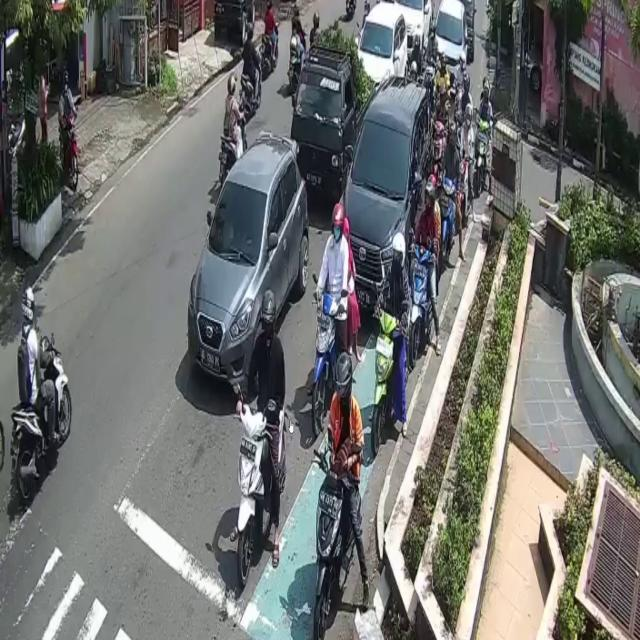bus: (234, 390, 290, 583), (11, 335, 72, 505), (313, 458, 360, 640), (371, 306, 399, 452), (314, 292, 343, 430), (410, 243, 433, 361), (218, 112, 248, 190), (60, 108, 80, 188), (240, 52, 262, 120), (476, 118, 494, 186), (442, 174, 457, 252)
motorcycle: (188, 131, 308, 393), (341, 77, 434, 322), (290, 42, 376, 200), (358, 0, 409, 84), (434, 0, 468, 95), (394, 0, 431, 58)
